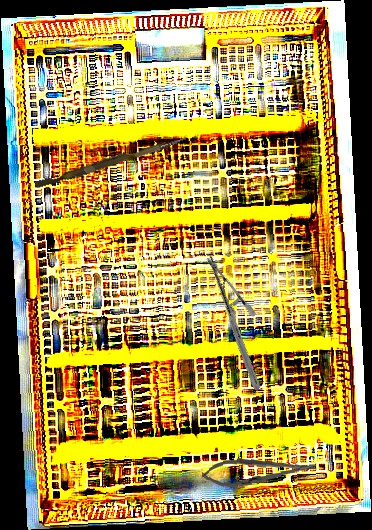Needle Holder: (162, 254, 305, 392), (201, 453, 317, 490)
Pusher: (35, 130, 187, 193)
